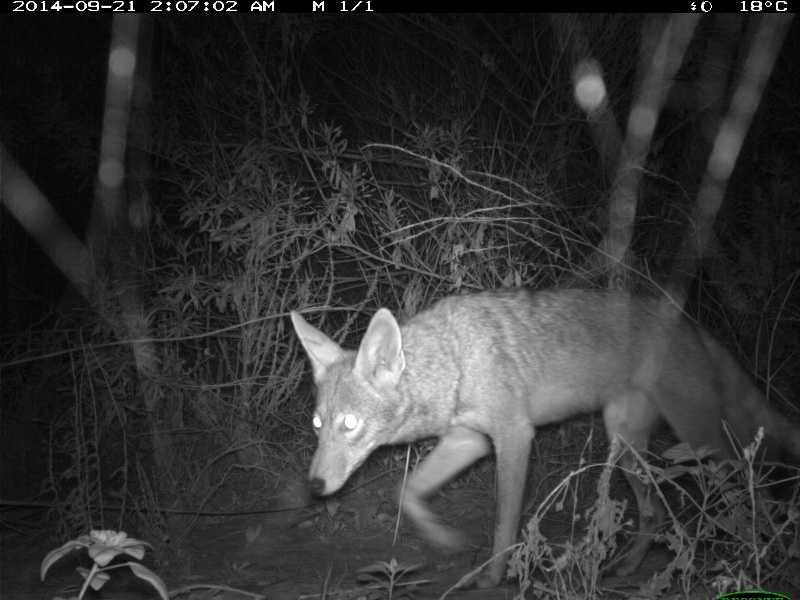coyote: (286, 284, 800, 568)
